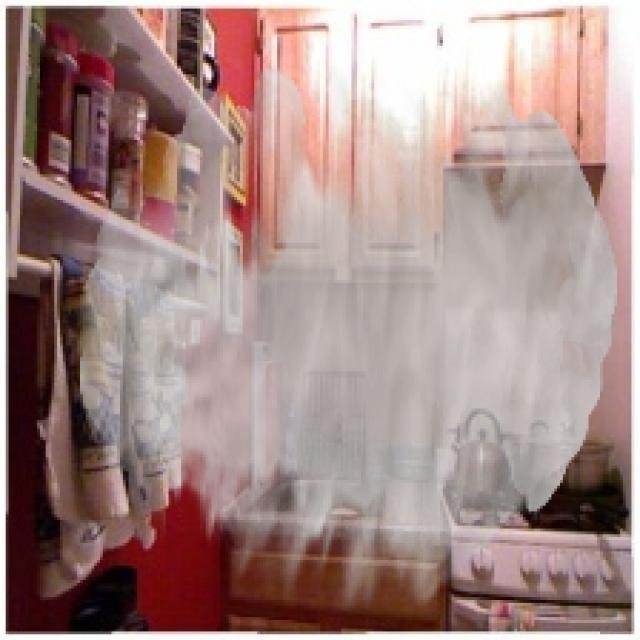smoke: (77, 66, 617, 611)
